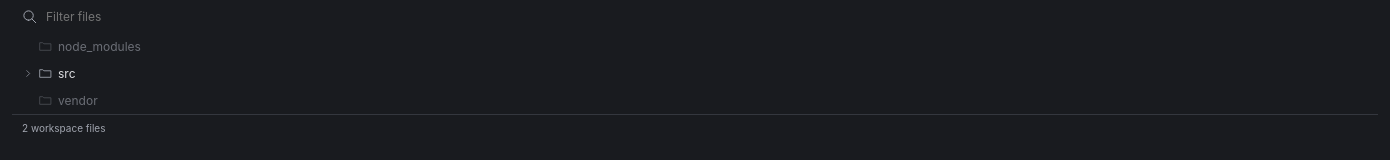
it: excluding directories from the project tree › shows excluded folders dimmed with a tick, and unticking includes them again
Right-click the list item "vendor": (78, 100) [12,87,1378,114]
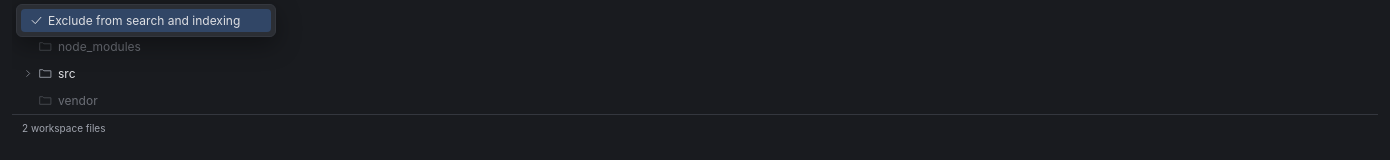
Click the menu item "Exclude from search and indexing": (146, 20) [21,9,271,32]
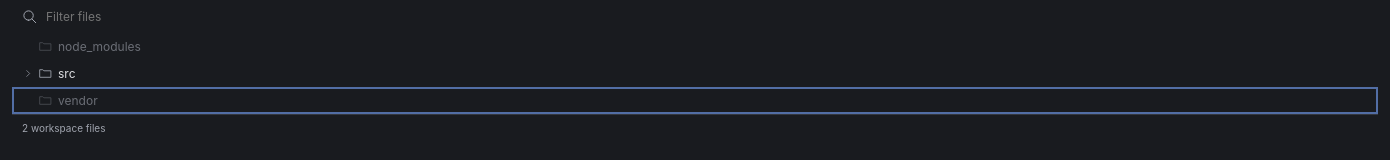
Right-click the list item "node_modules": (99, 46) [12,33,1378,60]
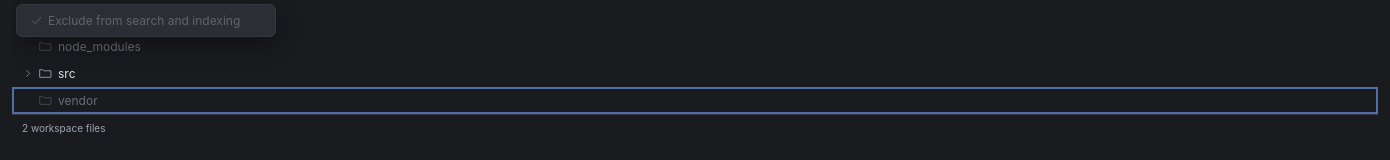
Expected: the menu item "Exclude from search and indexing" is disabled, [21,9,271,32]
